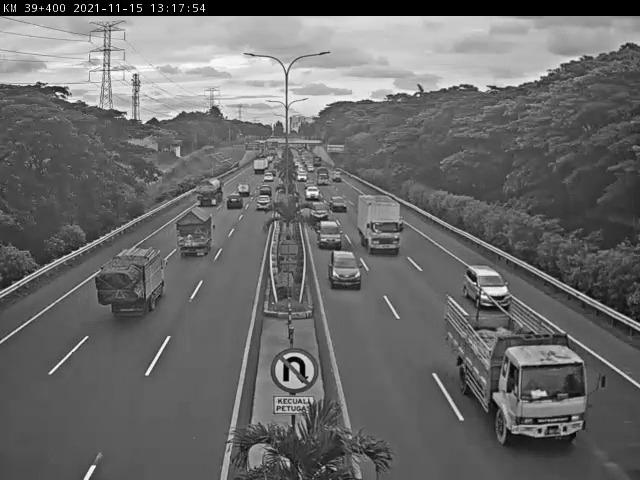car: (462, 266, 512, 309), (327, 249, 363, 289), (315, 218, 343, 249), (307, 200, 330, 224), (330, 195, 350, 213), (225, 192, 244, 210), (255, 193, 272, 210)
truck-m-: (442, 293, 590, 445), (96, 245, 167, 321), (358, 194, 405, 256), (176, 207, 213, 255)
